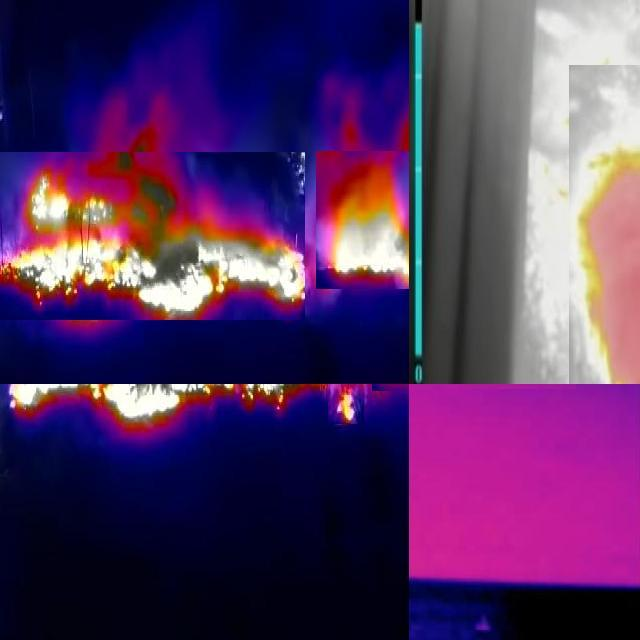fire: (1, 153, 306, 321), (570, 66, 640, 385), (317, 152, 410, 290), (11, 385, 325, 425), (329, 385, 365, 425)
